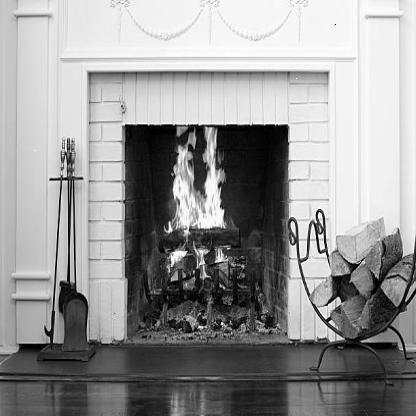fire: (159, 120, 229, 287)
